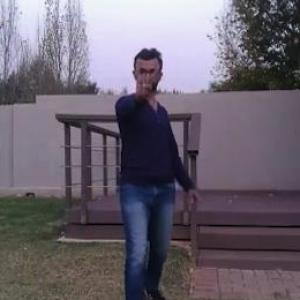takeoff-hand: (130, 59, 168, 105)
